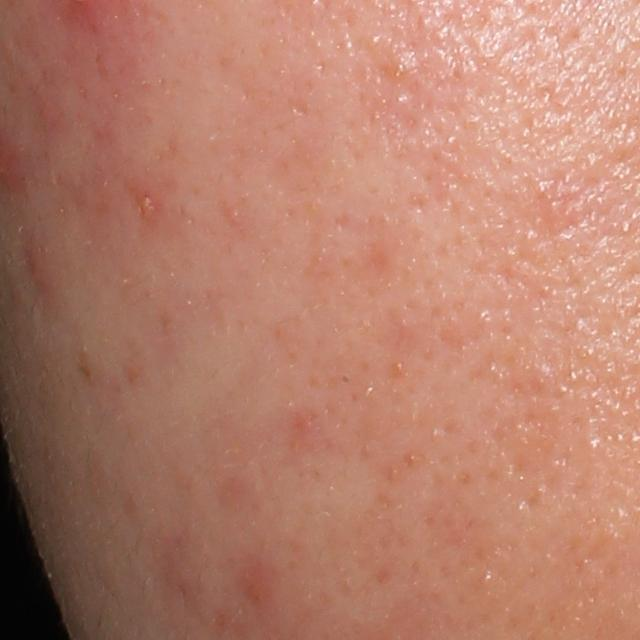papule: (28, 245, 51, 299)
